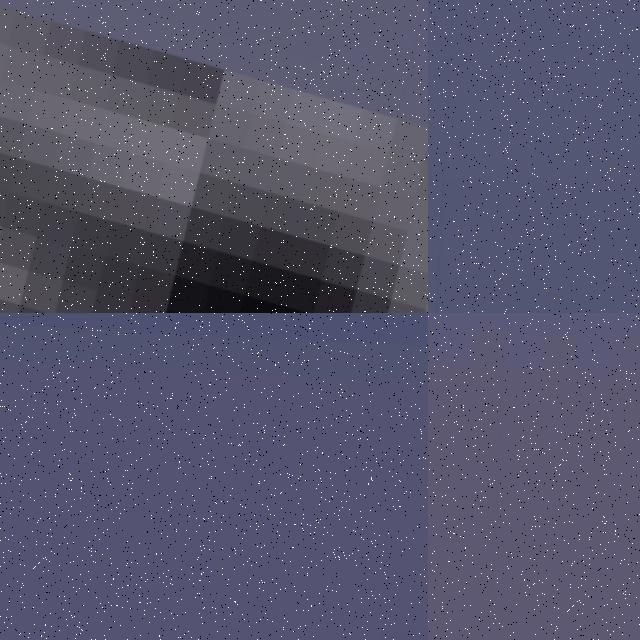drone: (0, 0, 428, 313)
